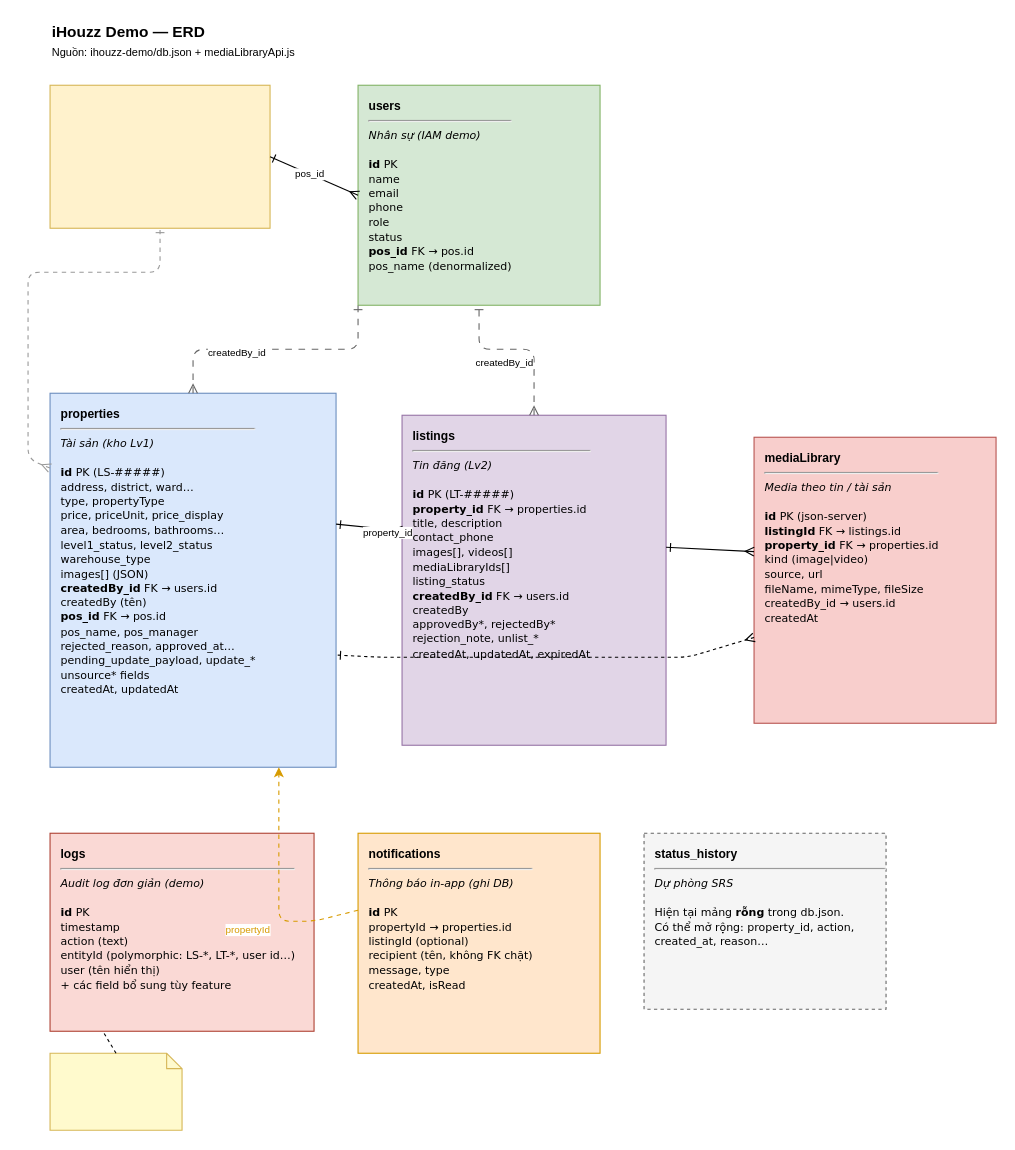
This 1015x1150 diagram has some shape labels left out. Here are the shapes that lost their labels. From the top down, the centre of each, then its label:
At point (159, 156): "pos Chi nhánh POS id PK (string) name manager status".
At point (115, 1091): "logs.entityId → tham chiếu lỏng (text)".
